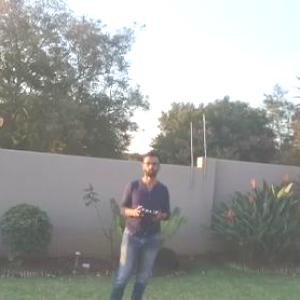follow: (107, 145, 178, 299)
